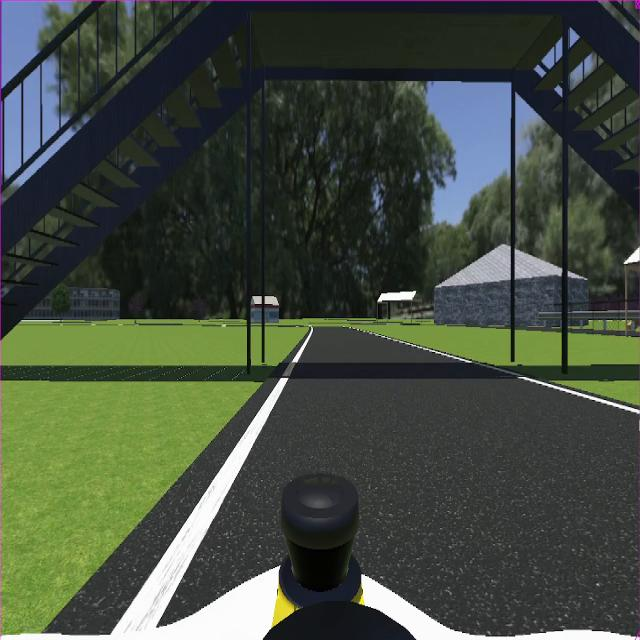road: (161, 329, 638, 635)
solid_line: (112, 331, 312, 635), (354, 328, 640, 416)
